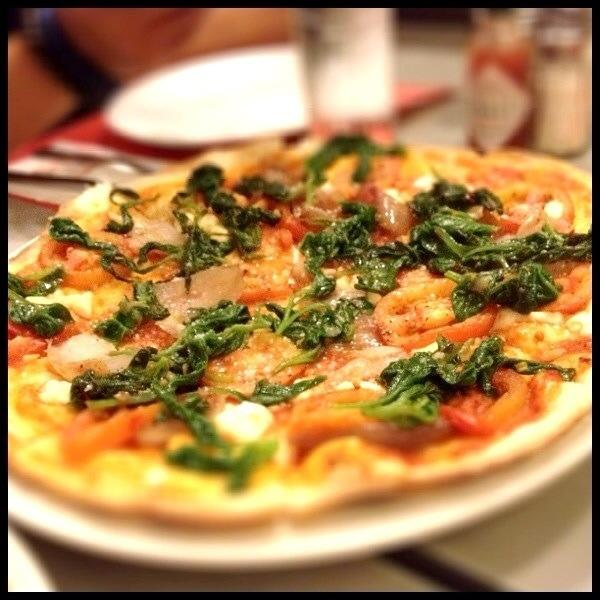tomato: (373, 281, 499, 357), (200, 328, 310, 399), (61, 400, 169, 468), (438, 366, 530, 436), (38, 238, 132, 290), (8, 319, 83, 366), (508, 187, 574, 238), (238, 259, 314, 303), (536, 259, 592, 314), (275, 209, 309, 246), (221, 174, 239, 191)
